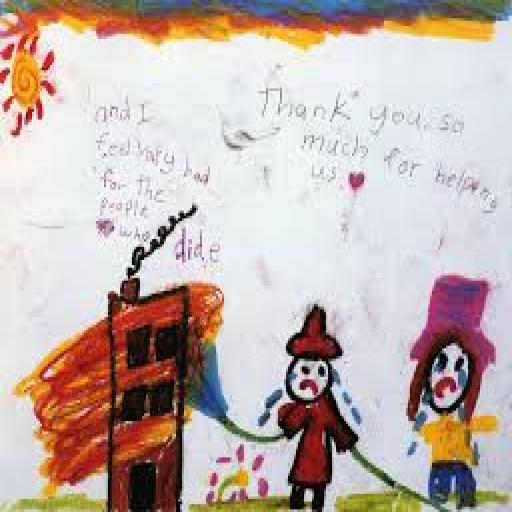person: (403, 267, 501, 509), (257, 290, 363, 510)
